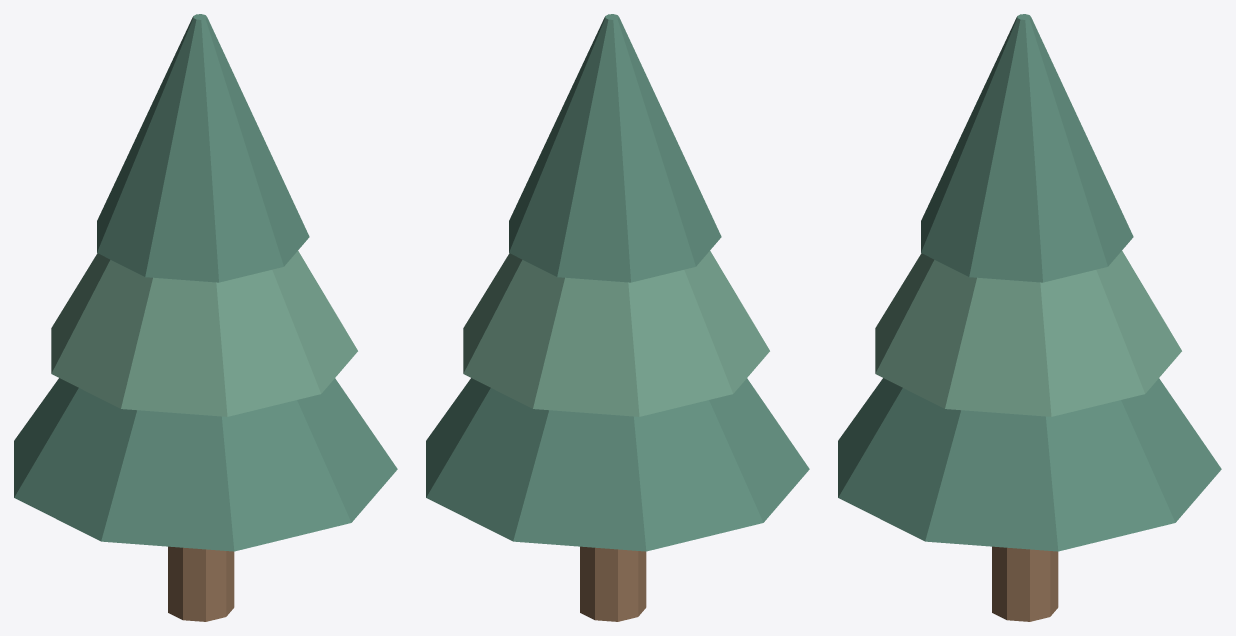
File: pine-tree.glb
The picture shows the model from 3 angles, left to right: view 1: azimuth 30°, elevation 25°; view 2: azimuth 150°, elevation 25°; view 3: azimuth 270°, elevation 25°; orthographic projection.
Visible parts, largest first — view 1: Evergreen boughs, Evergreen boughs.001, Evergreen boughs.002, Trunk; view 2: Evergreen boughs, Evergreen boughs.001, Evergreen boughs.002, Trunk; view 3: Evergreen boughs, Evergreen boughs.001, Evergreen boughs.002, Trunk.
Part boxes in pixels (left/top/right/bottom): Evergreen boughs: left=14, top=378, right=397, bottom=551; Evergreen boughs.001: left=51, top=251, right=357, bottom=416; Evergreen boughs.002: left=97, top=14, right=309, bottom=282; Trunk: left=168, top=546, right=234, bottom=621; Evergreen boughs: left=426, top=378, right=809, bottom=551; Evergreen boughs.001: left=463, top=251, right=769, bottom=416; Evergreen boughs.002: left=509, top=14, right=721, bottom=282; Trunk: left=580, top=546, right=646, bottom=621; Evergreen boughs: left=838, top=378, right=1221, bottom=551; Evergreen boughs.001: left=875, top=251, right=1181, bottom=416; Evergreen boughs.002: left=921, top=14, right=1133, bottom=282; Trunk: left=992, top=546, right=1058, bottom=621.
Size of the model in its own units: 2.17 by 3.63 by 2.13.
